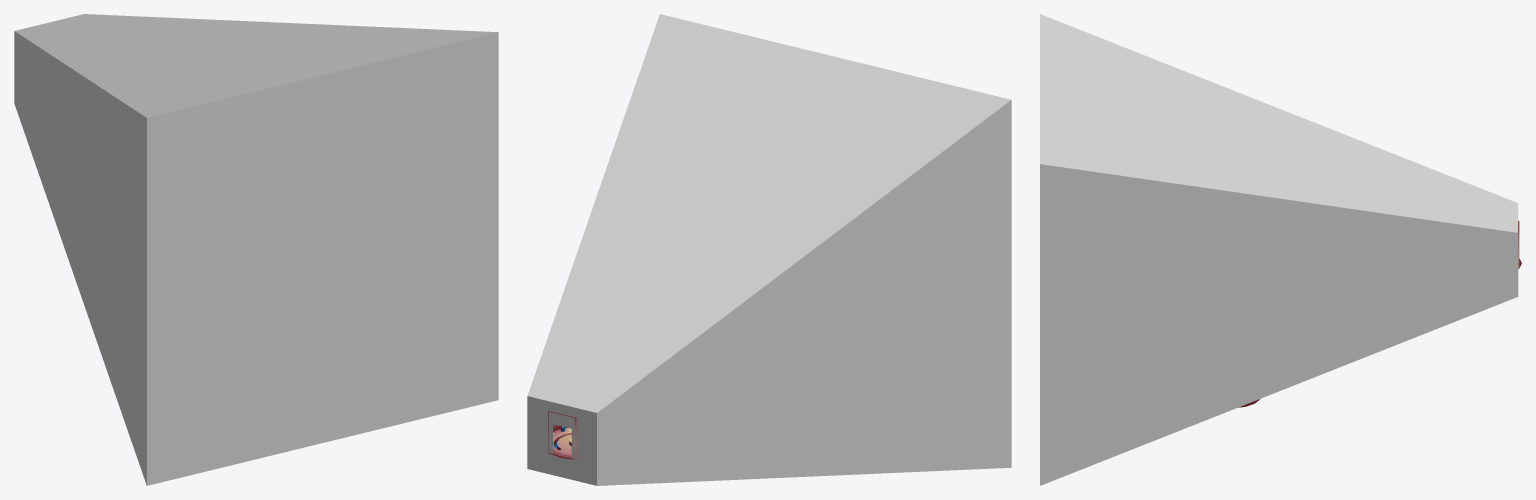
The model's file is TNTC_2021_ParallaxCard_BOUCKAERT_Adrien.fbx.
3 views of the same model, side by side, from view 1: azimuth 30°, elevation 25°; view 2: azimuth 150°, elevation 25°; view 3: azimuth 270°, elevation 25° (orthographic). The views are drawn at different scales.
Visible parts, largest first — view 1: m_card_bgPortalCube; view 2: m_card_bgPortalCube, GEO_Room; view 3: m_card_bgPortalCube.
Boxes of the visible parts, bbox=[...] form: m_card_bgPortalCube: bbox=[14, 14, 498, 485]; m_card_bgPortalCube: bbox=[527, 14, 1011, 485]; GEO_Room: bbox=[548, 411, 576, 459]; m_card_bgPortalCube: bbox=[1040, 14, 1518, 485].
Bounding box in the file's own units: 3785 × 3785 × 5134.
